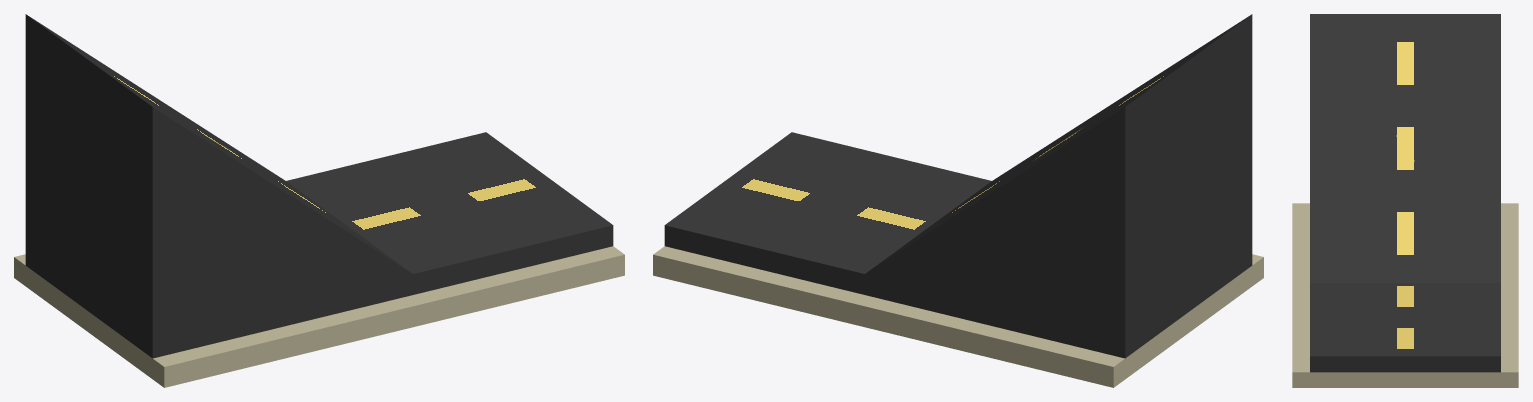
File: Landscaping.fbx
The picture shows the model from 3 angles, left to right: view 1: azimuth 30°, elevation 25°; view 2: azimuth 150°, elevation 25°; view 3: azimuth 270°, elevation 25°; orthographic projection. The views are drawn at different scales.
Parts seen in each view (by area): view 1: Ramp, Floor_1, Floor; view 2: Ramp, Floor_1, Floor; view 3: Ramp, Floor_1, Floor.
Part boxes in pixels (<box>): Ramp: <box>25,14,412,337</box>; Floor_1: <box>25,132,613,358</box>; Floor: <box>14,246,624,387</box>; Ramp: <box>865,14,1252,337</box>; Floor_1: <box>664,132,1252,358</box>; Floor: <box>653,246,1263,387</box>; Ramp: <box>1310,14,1500,282</box>; Floor_1: <box>1310,283,1500,372</box>; Floor: <box>1292,203,1518,387</box>.
Bounding box in the file's own units: 144 × 81.25 × 81.25.
3 materials, 3 textured.
